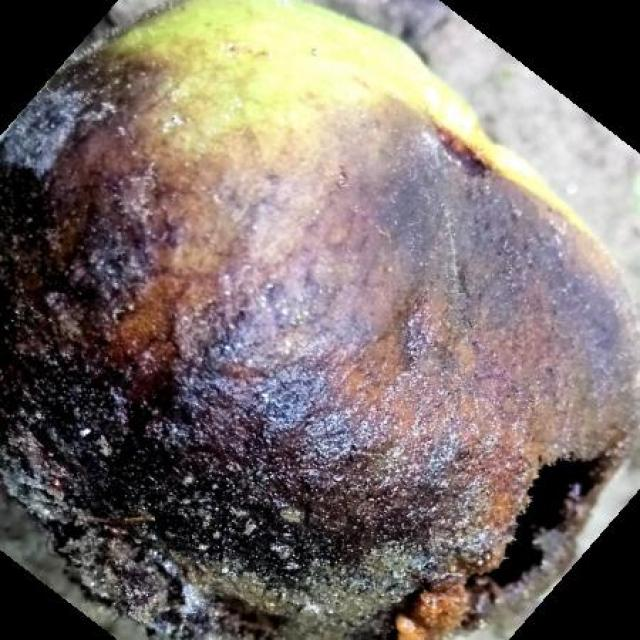Phytopthora: (0, 1, 636, 640)
